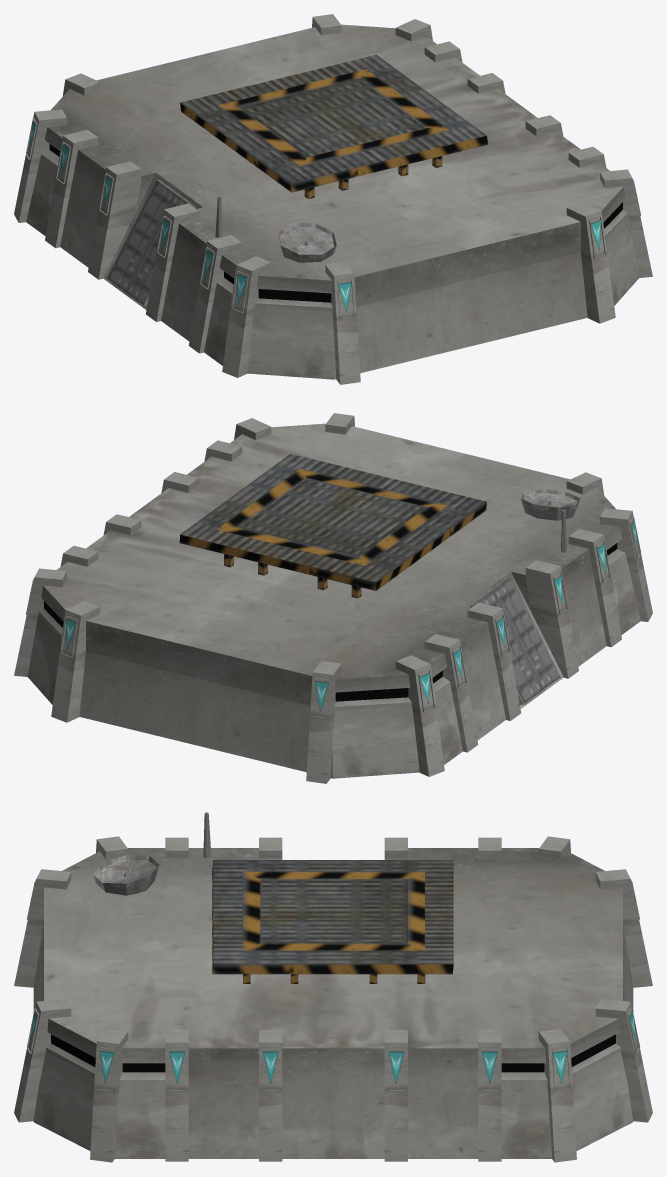
The model's file is temple.dae.
3 views of the same model, one above another, from view 1: azimuth 30°, elevation 25°; view 2: azimuth 150°, elevation 25°; view 3: azimuth 270°, elevation 25° (orthographic). The views are drawn at different scales.
Visible parts, largest first — view 1: temple; view 2: temple; view 3: temple.
Part boxes in pixels (bbox=[...]): temple: bbox=[14, 14, 652, 384]; temple: bbox=[14, 413, 652, 783]; temple: bbox=[14, 812, 652, 1162].
Bounding box in the file's own units: 29.64 × 35.39 × 8.86.
